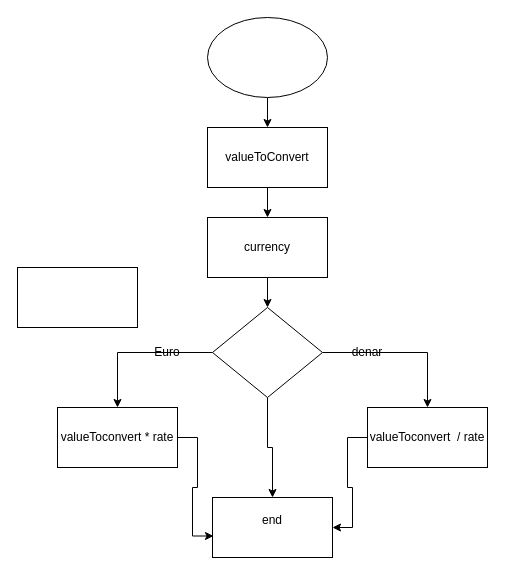
Some shapes in this 505 by 575 pixel diagram are drawn without their labels. The shapes that lost their labels are listed below. From the top down, each one's box as (x1, y1, x2, y2) in pixels, then its label:
(206, 16, 328, 98): Begin
(16, 266, 138, 328): rate -> constant
(212, 306, 322, 398): if currency = Euro or denar
